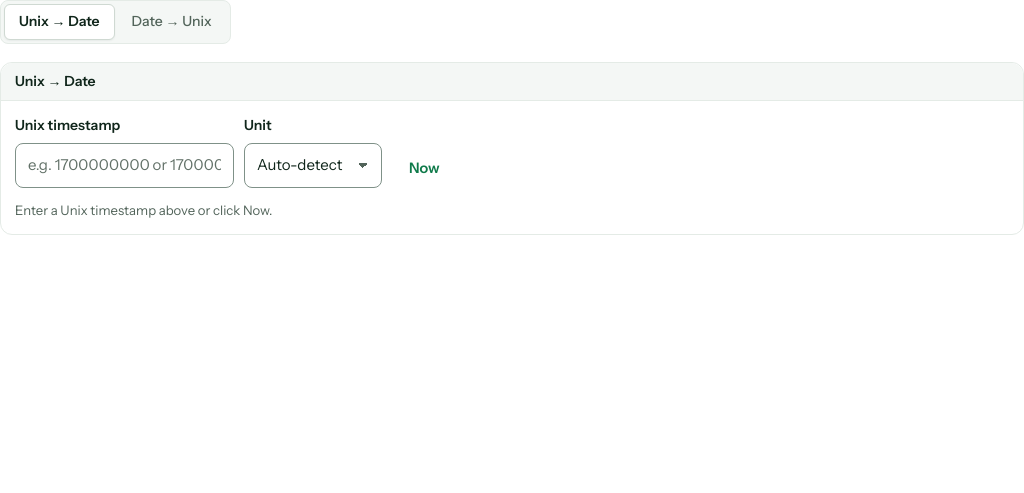
Scenario: TimestampConverter — Unix → Date › converts seconds timestamp 1700000000 to ISO 2023-11-14
// Set unit to seconds explicitly
Select "Seconds" in the dropdown: (313, 165) [244,143,382,188]
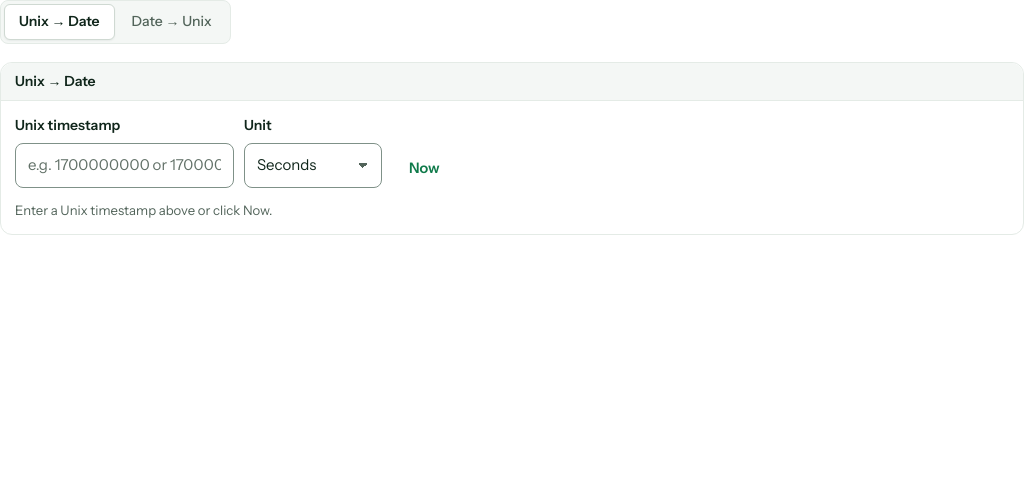
In the field with placeholder "e.g. 1700000000 or 1700000000000": (124, 165) [15,143,234,188], type "1700000000"
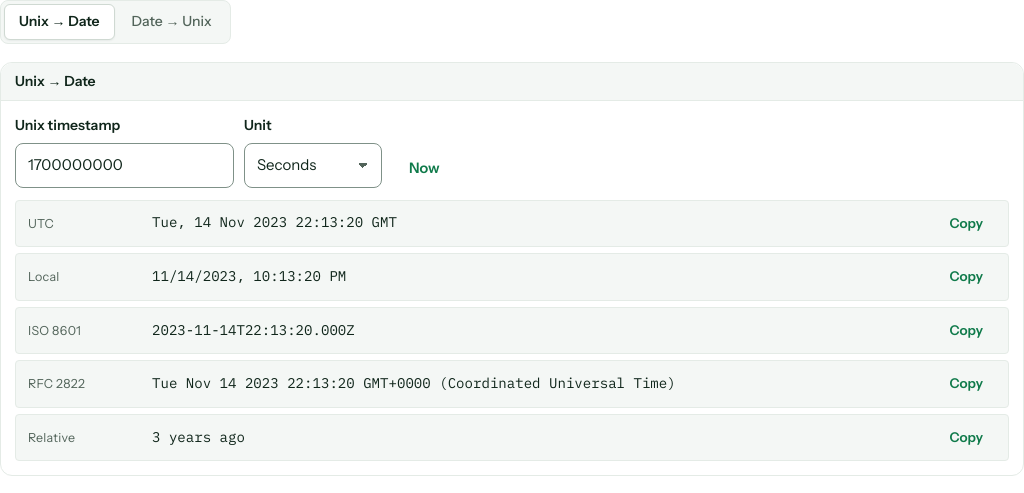
Now the text "2023-11-14T22:13:20.000Z" is shown, box [152,320,355,338]
